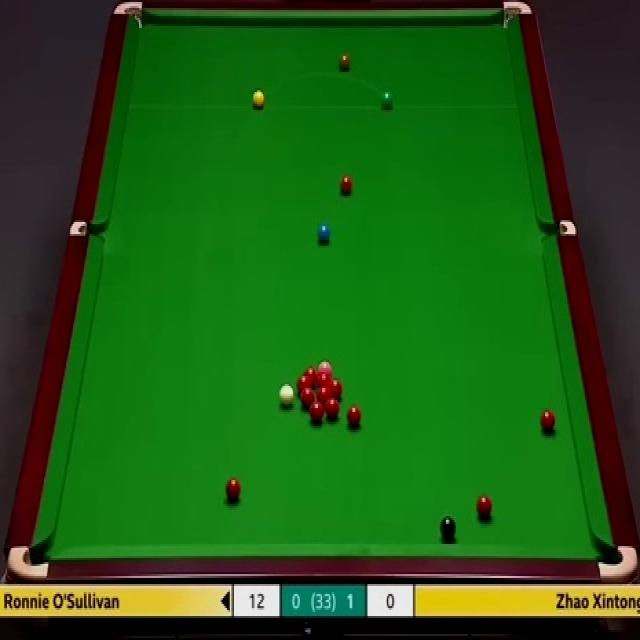pocket: (7, 543, 50, 582), (597, 542, 637, 583), (111, 0, 145, 34), (503, 0, 531, 29), (68, 222, 104, 236), (540, 222, 576, 236)
